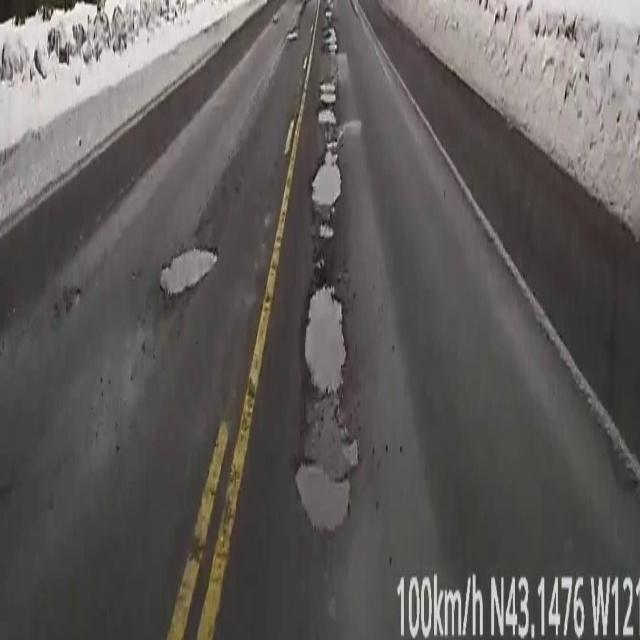pothole: (296, 292, 358, 524), (311, 0, 350, 274), (161, 248, 216, 293)
